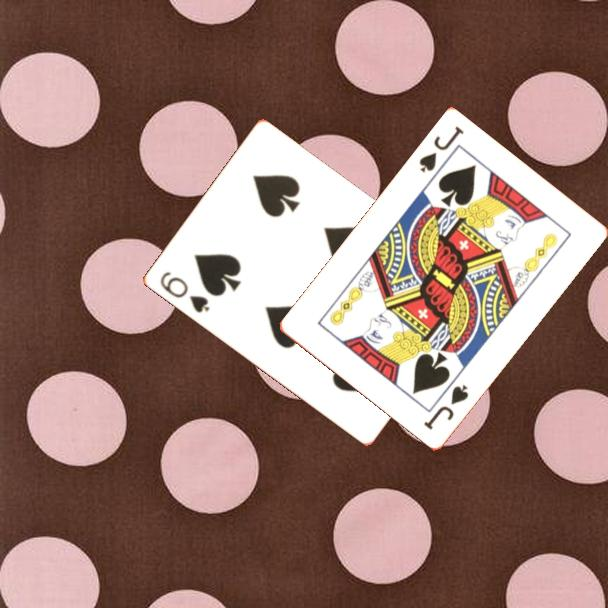s06: (156, 268, 212, 316)
s11: (415, 123, 467, 176), (420, 381, 472, 433)
